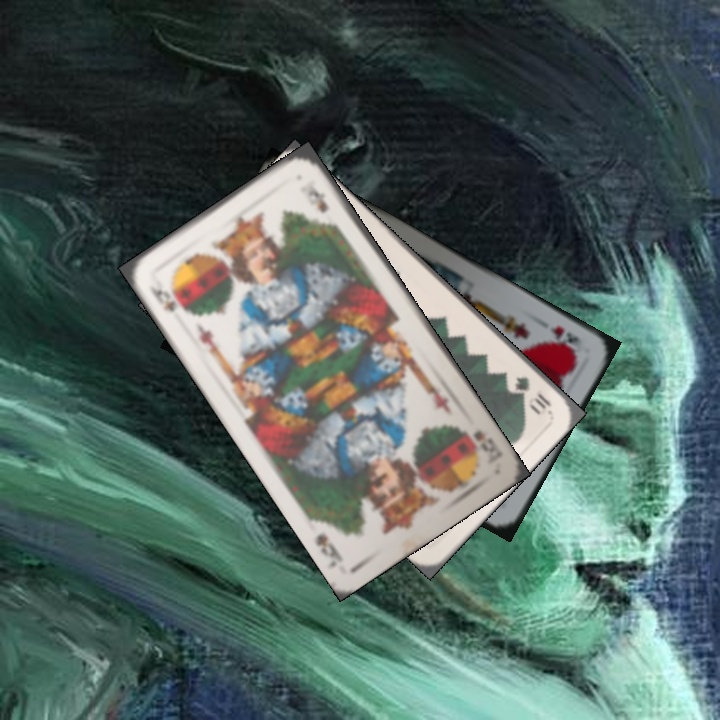G10: (510, 372, 555, 416)
HK: (545, 321, 585, 355)
SK: (147, 282, 190, 319), (469, 425, 501, 466)
